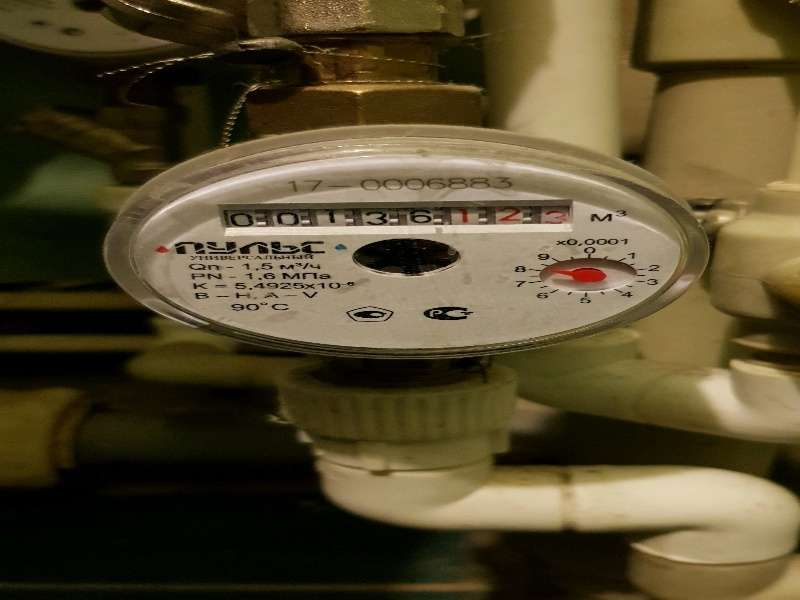meter: (219, 189, 571, 232)
